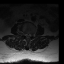CCS_normal: (27, 32, 28, 39)
LFS_normal: (30, 32, 32, 37)
LLS_normal: (29, 33, 30, 38)
RFS_normal: (23, 31, 25, 37)
RLS_normal: (25, 32, 27, 38)
